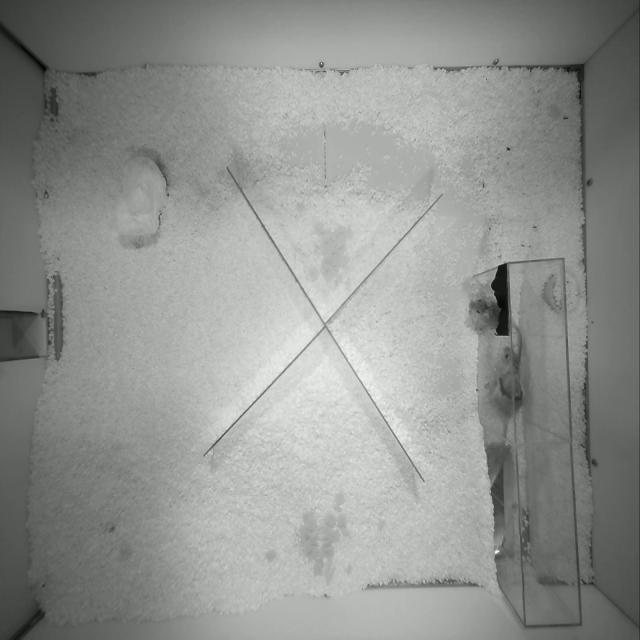adult_back: (469, 300, 499, 334), (512, 323, 521, 353)
adult_front: (491, 346, 523, 438)
